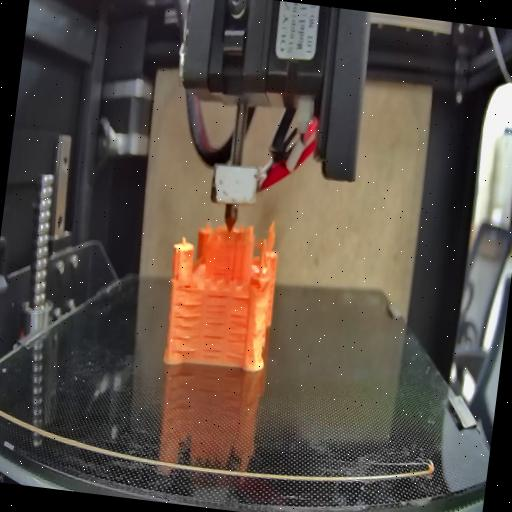cracks: (168, 300, 203, 355), (225, 312, 250, 362), (203, 290, 231, 328), (199, 332, 225, 364), (232, 292, 252, 304), (182, 282, 194, 293)
